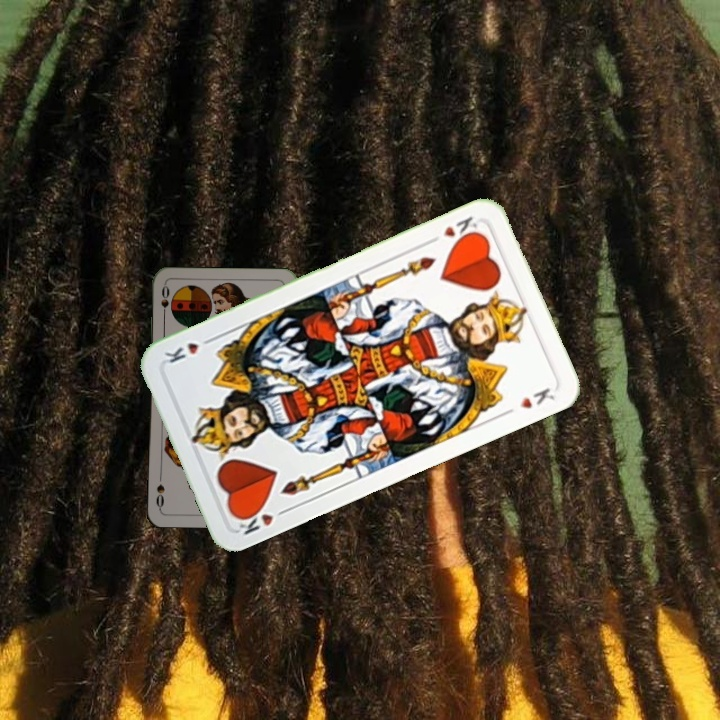HK: (231, 502, 291, 538), (439, 212, 482, 246)
SO: (157, 282, 172, 322)
